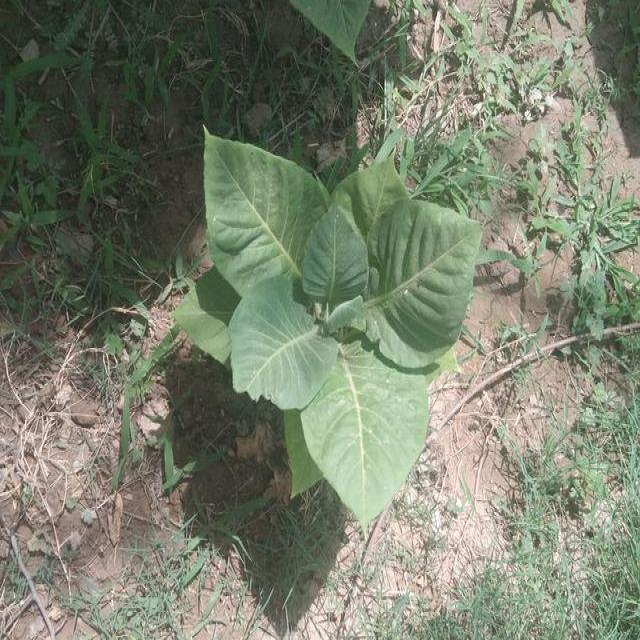crop: (161, 118, 488, 526)
